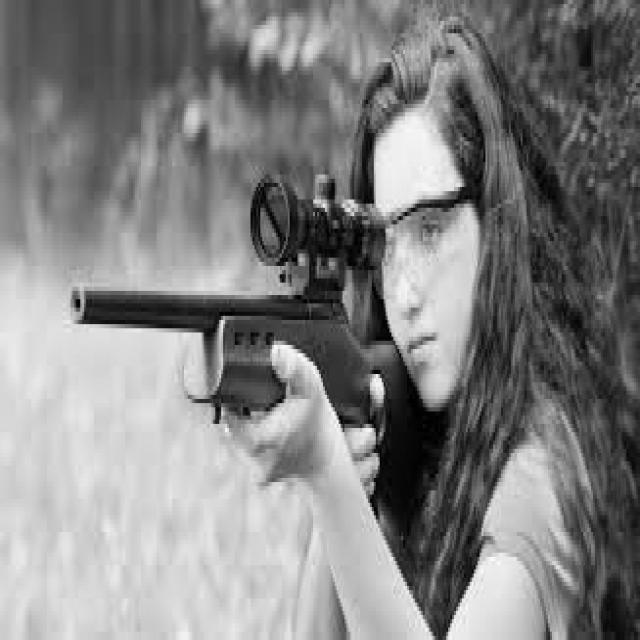gun: (64, 182, 438, 514)
